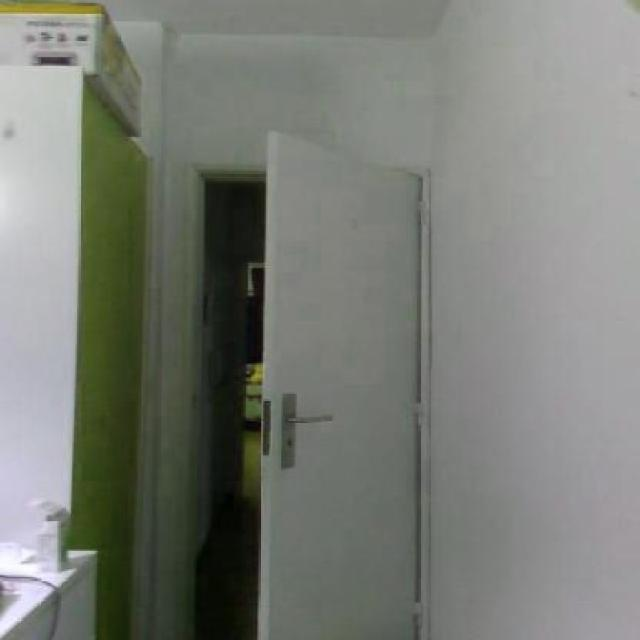door_handle: (277, 407, 340, 429)
